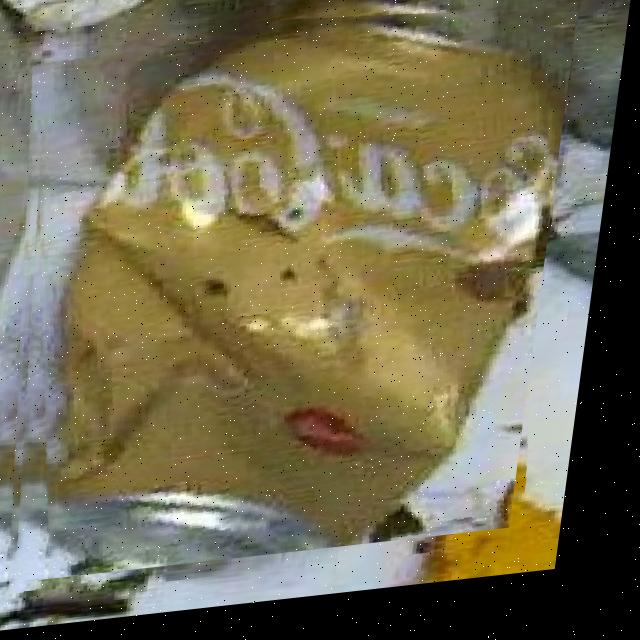can: (0, 0, 584, 588)
